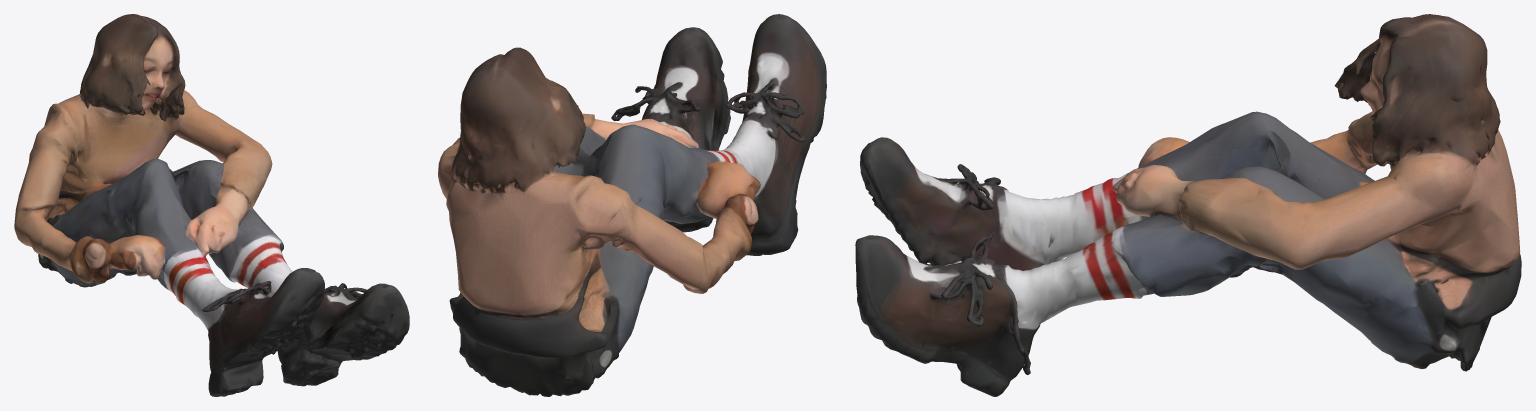
File: les-derbies-femme.glb
The picture shows the model from 3 angles, left to right: view 1: azimuth 30°, elevation 25°; view 2: azimuth 150°, elevation 25°; view 3: azimuth 270°, elevation 25°; orthographic projection. The views are drawn at different scales.
Size of the model in its own units: 1.12 by 1.21 by 2.
1 material, 1 textured.
